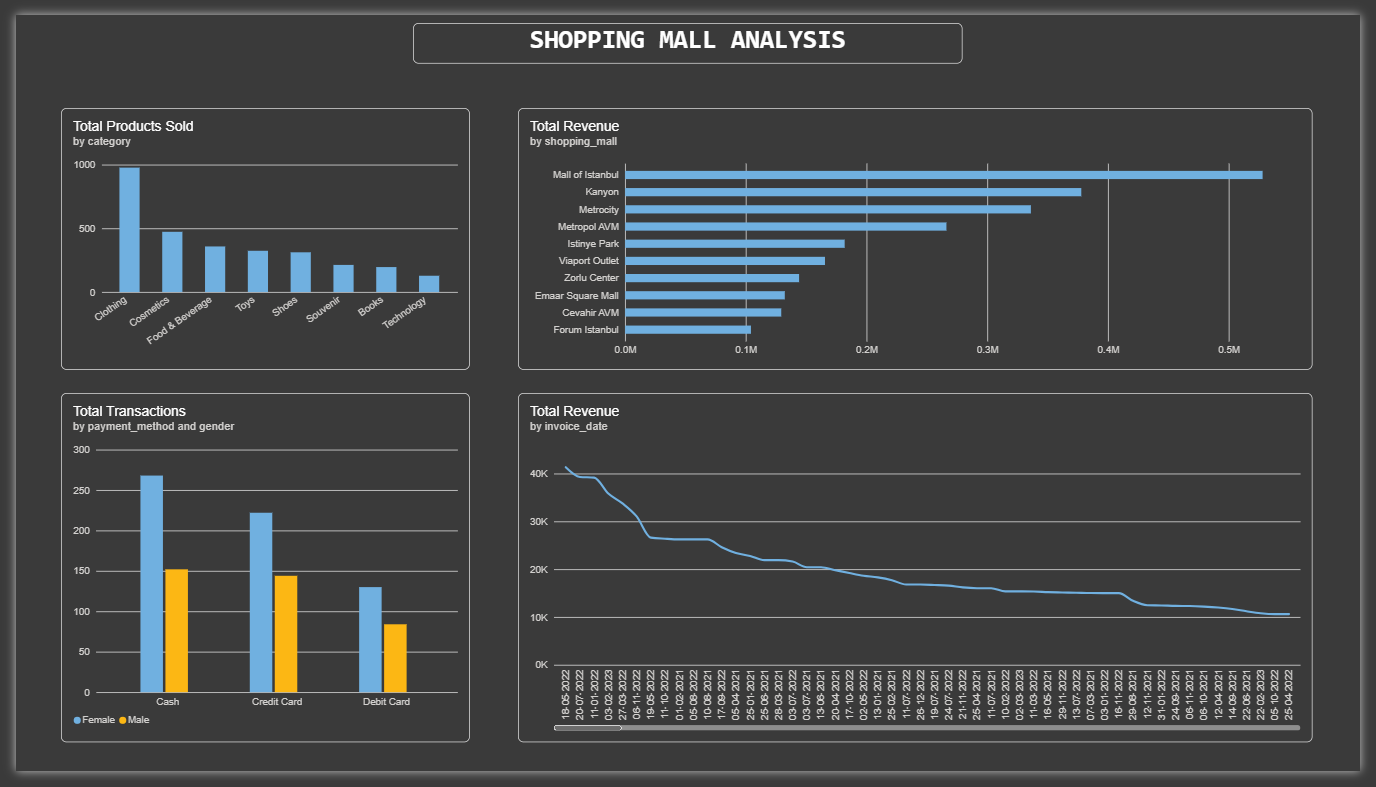

This screenshot's page, from the dashboard's own definition file:
{"tool":"powerbi","page":{"name":"SHOPPING MALL ANALYSIS","canvas":[1920,1080],"ordinal":1},"visuals":[{"type":"textbox","box":[566.7,11.6,785.3,58.2],"z":0},{"type":"clusteredBarChart","fields":{"Category":["customer data.shopping_mall"],"Y":["customer data.Total Revenue"]},"box":[716.8,133.3,1134.7,373.9],"z":1},{"type":"clusteredColumnChart","fields":{"Category":["customer data.category"],"Y":["customer data.Total Products Sold"]},"box":[64.7,133.3,583.5,373.9],"z":2},{"type":"clusteredColumnChart","fields":{"Category":["customer data.payment_method"],"Series":["customer data.gender"],"Y":["customer data.Total Transactions"]},"box":[64.7,539.5,583.5,499.4],"z":3},{"type":"lineChart","fields":{"Category":["customer data.invoice_date"],"Y":["customer data.Total Revenue"]},"box":[716.8,539.5,1134.7,499.4],"z":4}]}

Visuals, with their boxes in screenshot pixels (x1, y1, x2, y2), scaled from the page's 1920x1080 canvas onto the 1376x787 screenshot:
textbox: [406,8,969,51]
clusteredBarChart - customer data.shopping_mall x customer data.Total Revenue: [514,97,1327,370]
clusteredColumnChart - customer data.category x customer data.Total Products Sold: [46,97,465,370]
clusteredColumnChart - customer data.payment_method x customer data.gender: [46,393,465,757]
lineChart - customer data.invoice_date x customer data.Total Revenue: [514,393,1327,757]
